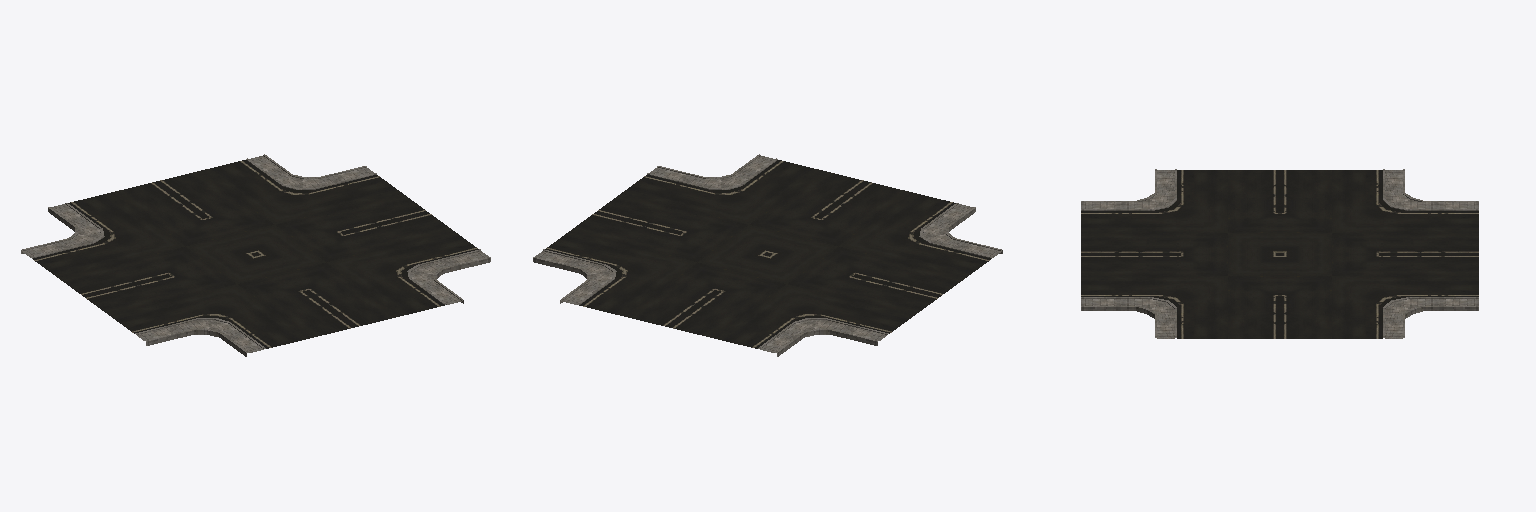
3 renders of one model, left to right at view 1: azimuth 30°, elevation 25°; view 2: azimuth 150°, elevation 25°; view 3: azimuth 270°, elevation 25°, orthographic.
Visible parts, largest first — view 1: 7_Road-Duble-Cross-B-C; view 2: 7_Road-Duble-Cross-B-C; view 3: 7_Road-Duble-Cross-B-C.
Boxes of the visible parts, <box> form: 7_Road-Duble-Cross-B-C: <box>21,154,490,356</box>; 7_Road-Duble-Cross-B-C: <box>533,154,1002,356</box>; 7_Road-Duble-Cross-B-C: <box>1081,169,1478,338</box>.
Bounding box in the file's own units: 1.67 × 0.0219 × 1.67.
1 materials, 1 textured.